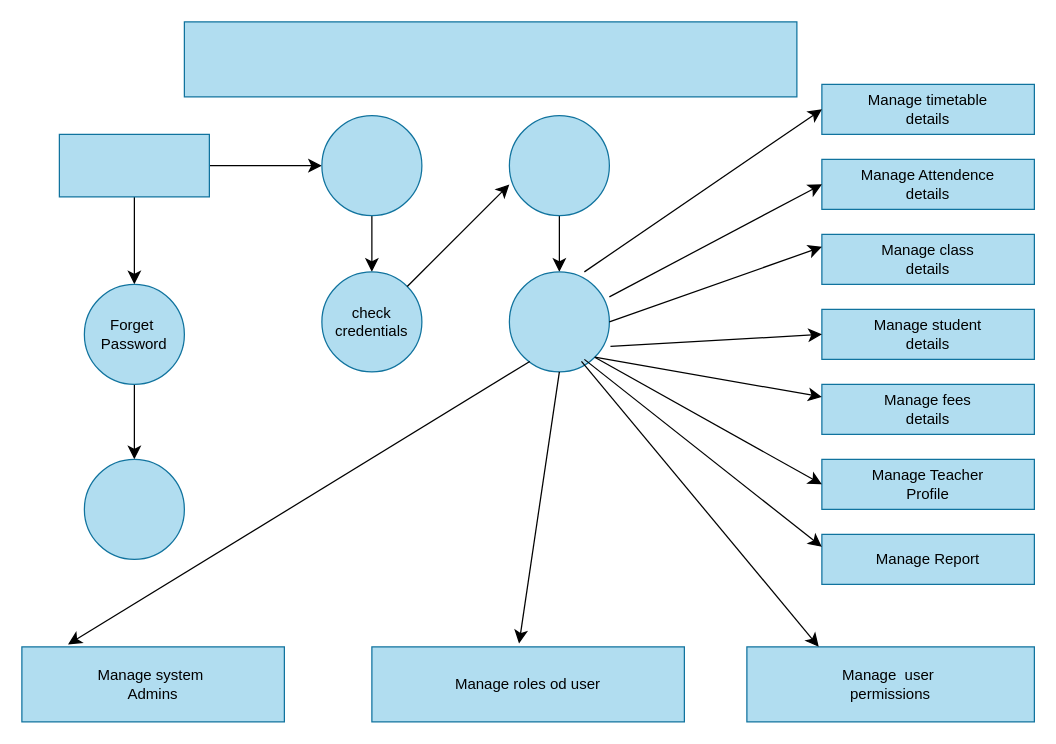
This 1056x744 diagram has some shape labels left out. The box of each missing label's shape, as (x1, y1, x2, y2) in pixels:
Admin: (58, 133, 209, 197)
check roles of access: (508, 114, 609, 216)
login to system: (321, 114, 422, 216)
manage modules: (508, 271, 609, 372)
send email to user: (83, 458, 184, 559)
Student Information System: (183, 21, 797, 97)
